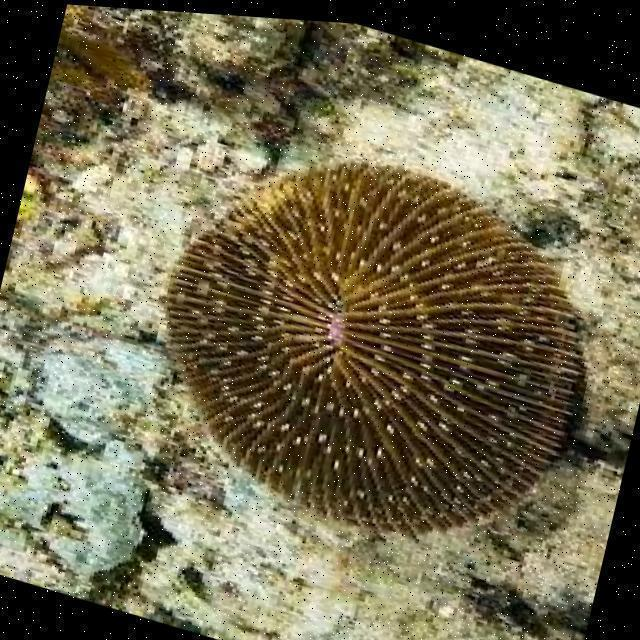Healthy Coral: (150, 150, 574, 535)
